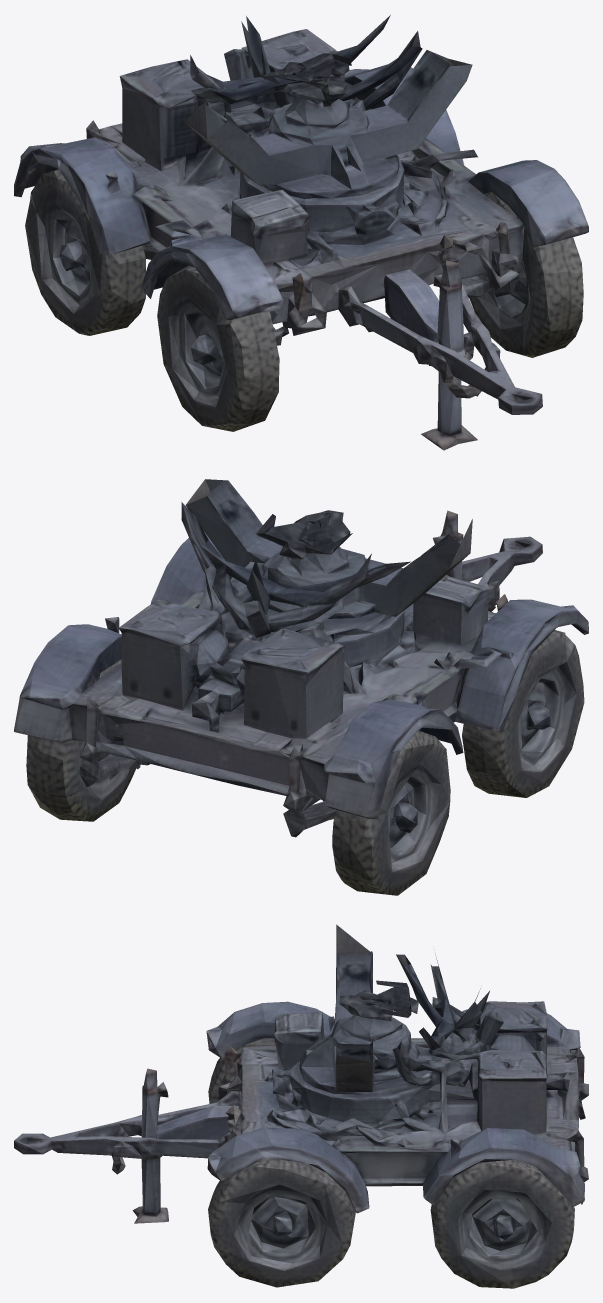
The model's file is searchlight_base.obj.
The picture shows the model from 3 angles, top to bottom: view 1: azimuth 30°, elevation 25°; view 2: azimuth 150°, elevation 25°; view 3: azimuth 270°, elevation 25°; orthographic projection. The views are drawn at different scales.
Parts seen in each view (by area): view 1: searchlight_base; view 2: searchlight_base; view 3: searchlight_base.
Boxes of the visible parts, left/top/right/bottom form: searchlight_base: left=14, top=15, right=588, bottom=450; searchlight_base: left=14, top=479, right=588, bottom=895; searchlight_base: left=14, top=924, right=588, bottom=1288.
Size of the model in its own units: 2.31 by 1.74 by 3.78.
Materials: 1 (1 with a texture image).
